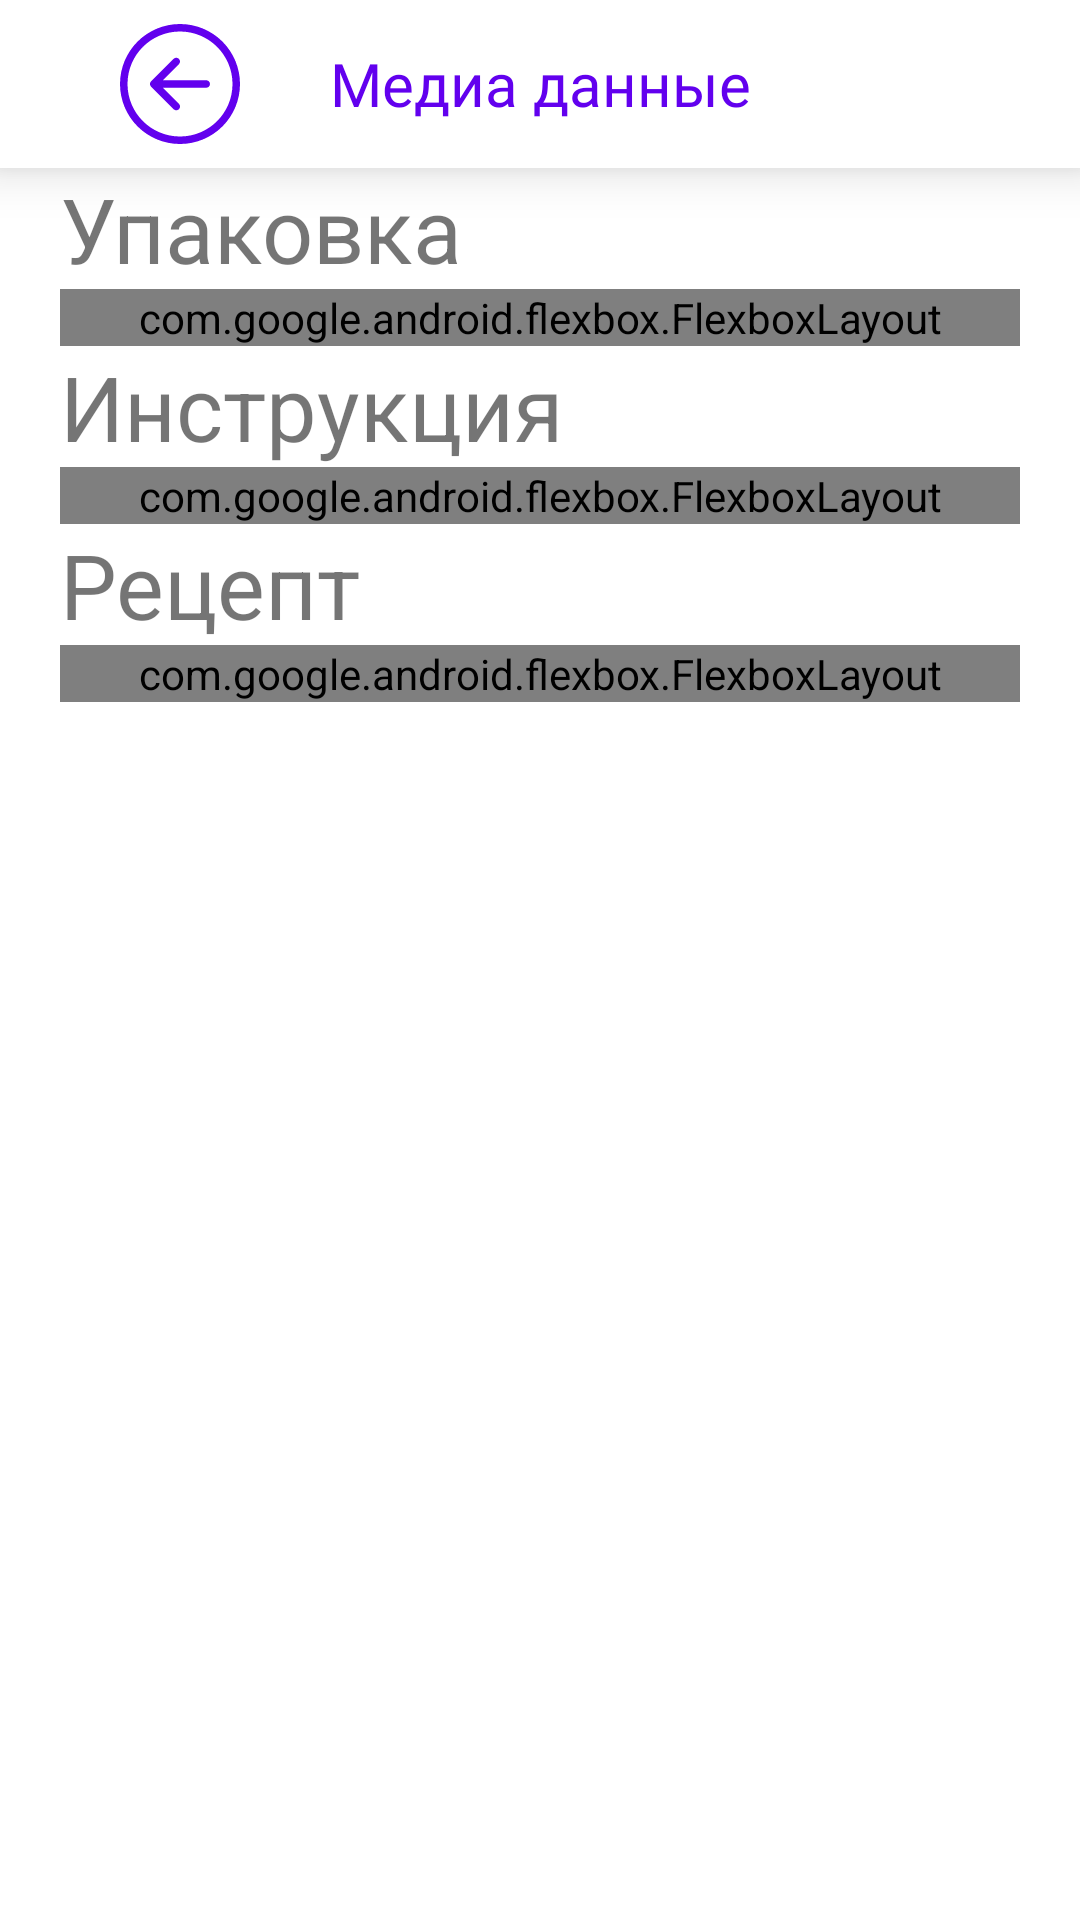

Where icons sit on this 1080px x 1920px app screen, as (x1, y1, x2, y2):
arrow left circle: (120, 24, 240, 144)
